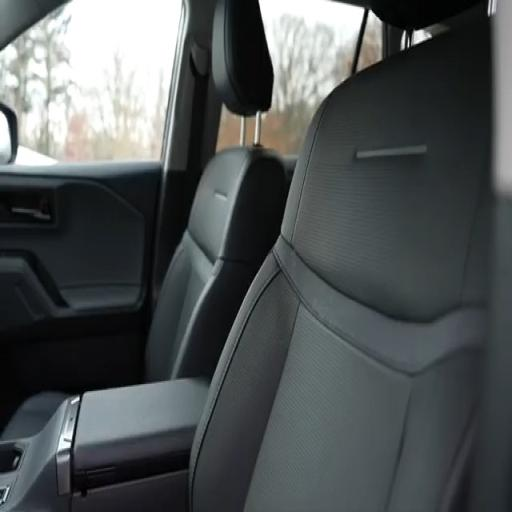side_mirror: (0, 103, 18, 164)
window: (0, 0, 182, 164), (260, 0, 363, 155)
